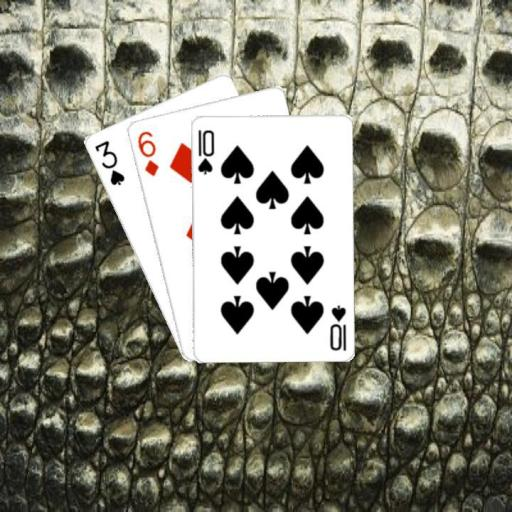10S: (194, 126, 215, 176), (326, 302, 347, 352)
3S: (91, 137, 126, 187)
6D: (134, 127, 160, 178)
